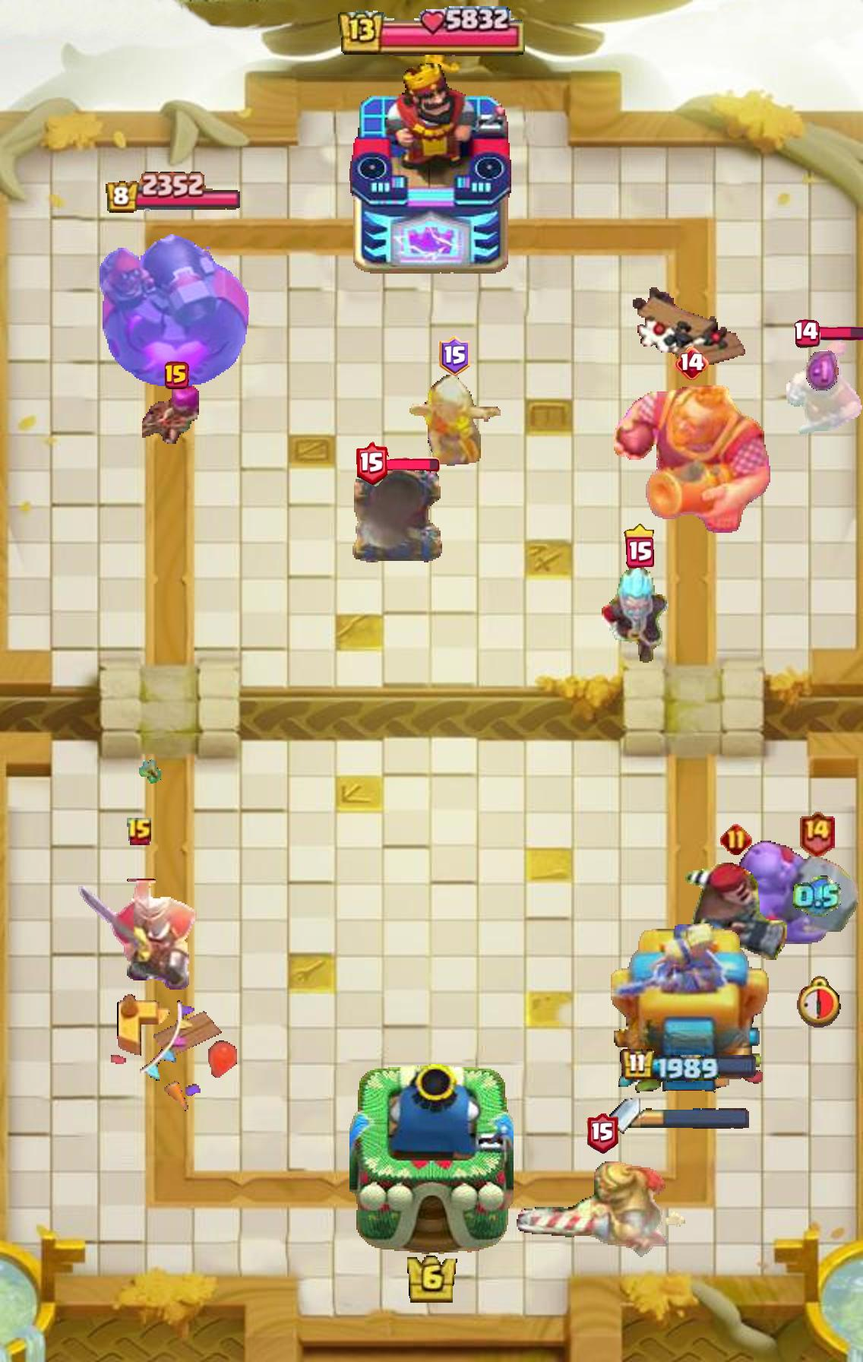bar: (385, 457, 440, 472), (817, 327, 863, 341)
bar-level: (798, 809, 836, 857), (356, 441, 389, 486), (624, 523, 654, 568), (438, 336, 470, 376), (586, 1114, 618, 1154), (673, 346, 709, 380), (720, 823, 752, 855), (126, 817, 153, 847), (795, 319, 820, 348), (165, 361, 189, 390)
